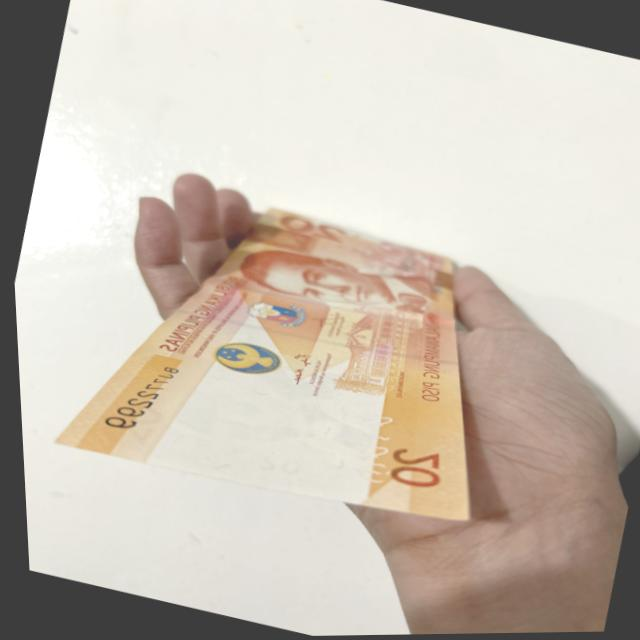security_thread: (168, 302, 453, 374)
see_through_mark: (341, 410, 394, 492)
serial_number: (79, 358, 186, 441)
value_watermark: (247, 446, 302, 480)
